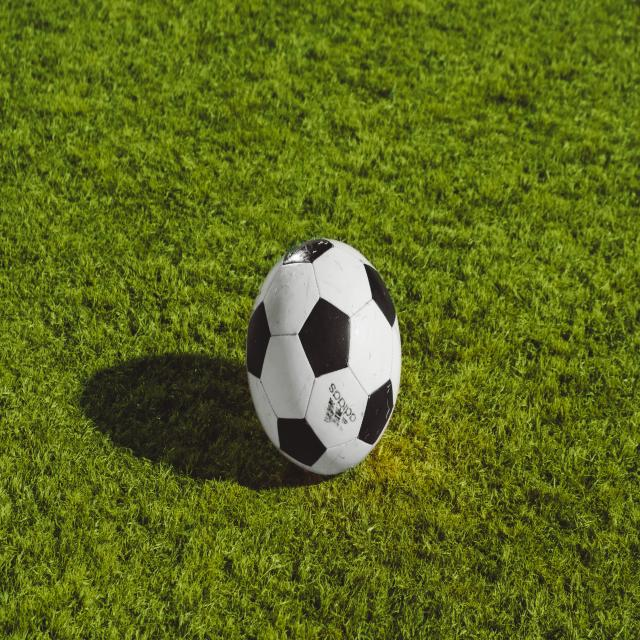soccer ball: (248, 238, 402, 475)
